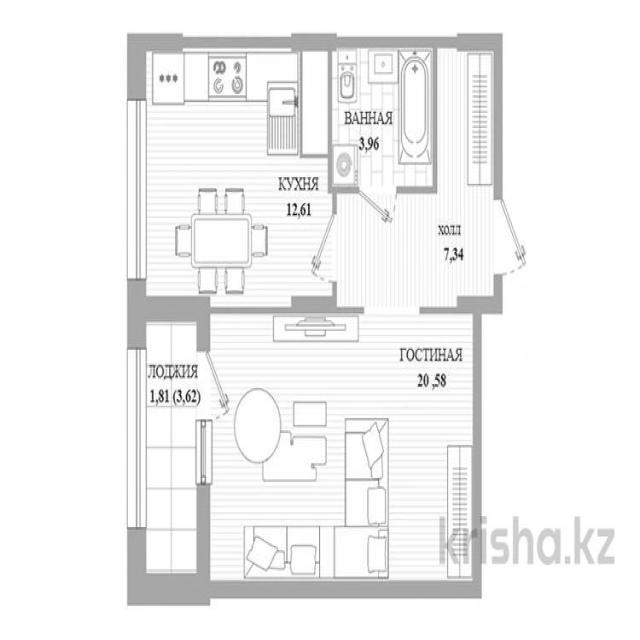balcony: (136, 308, 202, 584)
bathroom: (331, 45, 434, 189)
hallway: (335, 193, 502, 309)
kitchen: (135, 41, 331, 304)
living_room: (206, 309, 480, 594)
other: (434, 41, 500, 194)
